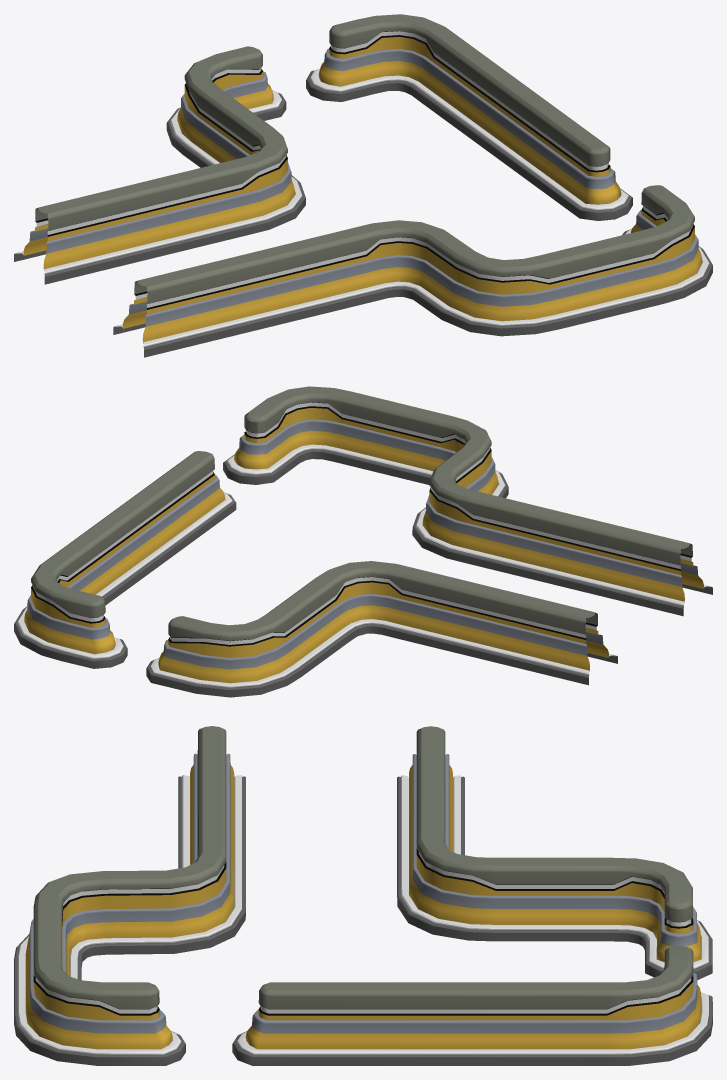
Rendered from Level22_Small_walls.fbx.
The picture shows the model from 3 angles, top to bottom: view 1: azimuth 30°, elevation 25°; view 2: azimuth 150°, elevation 25°; view 3: azimuth 270°, elevation 25°; orthographic projection. The views are drawn at different scales.
Parts seen in each view (by area): view 1: Small_wall_L19, Small_wall_L59, Small_wall_L; view 2: Small_wall_L19, Small_wall_L59, Small_wall_L; view 3: Small_wall_L19, Small_wall_L, Small_wall_L59.
Boxes of the visible parts, left/top/right/bottom form: Small_wall_L19: left=113, top=185, right=712, bottom=357; Small_wall_L59: left=14, top=46, right=305, bottom=284; Small_wall_L: left=306, top=14, right=632, bottom=220; Small_wall_L19: left=223, top=386, right=712, bottom=616; Small_wall_L59: left=146, top=561, right=617, bottom=697; Small_wall_L: left=14, top=451, right=236, bottom=668; Small_wall_L19: left=14, top=726, right=245, bottom=1065; Small_wall_L: left=232, top=946, right=712, bottom=1065; Small_wall_L59: left=397, top=726, right=712, bottom=979.
Size of the model in its own units: 337 by 37.08 by 355.
